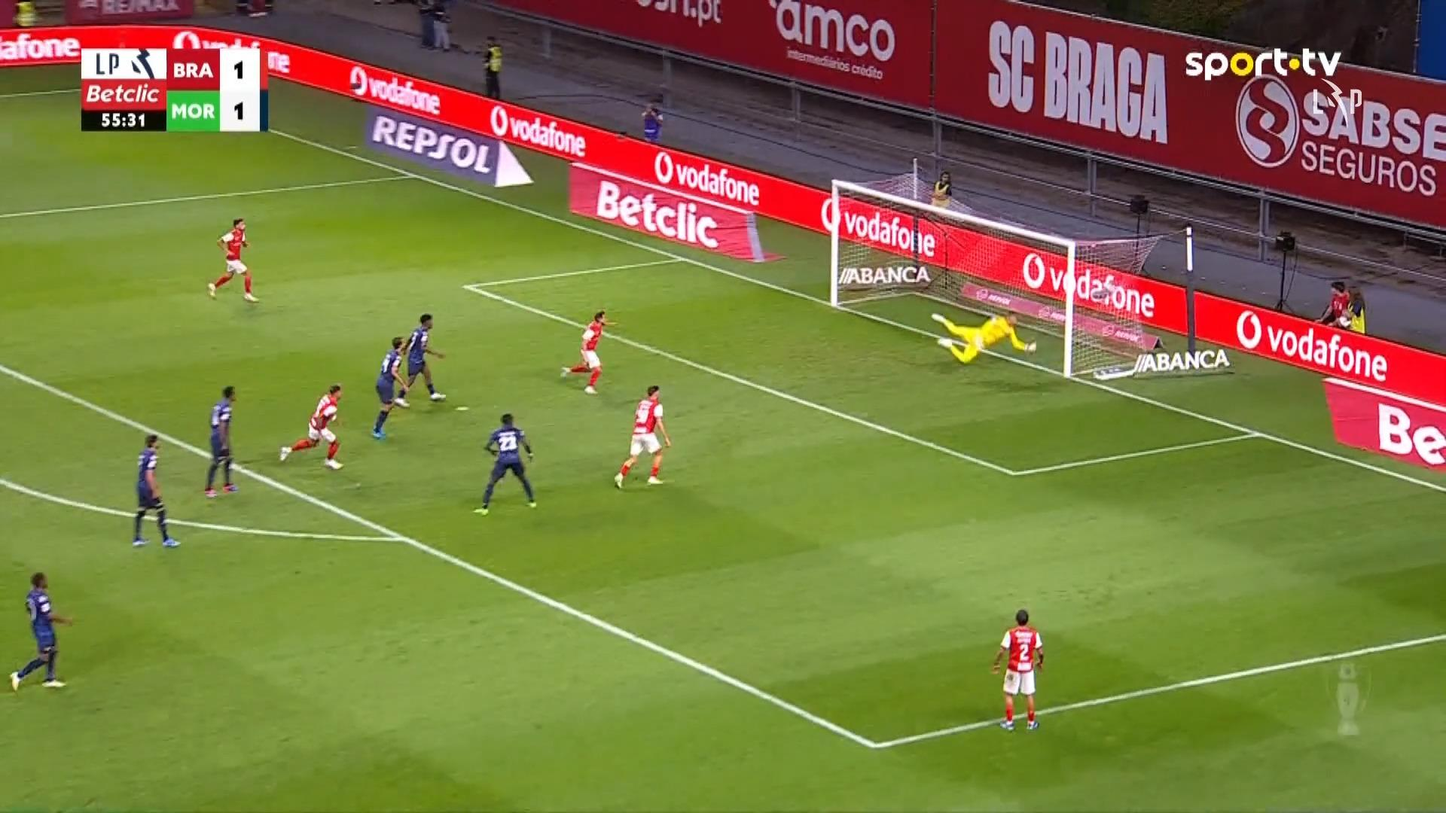ball: (1025, 341, 1036, 354)
goalkeeper: (930, 309, 1036, 364)
player: (8, 571, 74, 690), (990, 608, 1045, 731), (472, 412, 537, 516), (613, 384, 672, 489), (278, 382, 345, 470), (131, 433, 181, 548), (393, 312, 447, 407), (558, 309, 615, 394), (206, 217, 260, 303), (203, 385, 239, 497), (371, 336, 410, 439)
